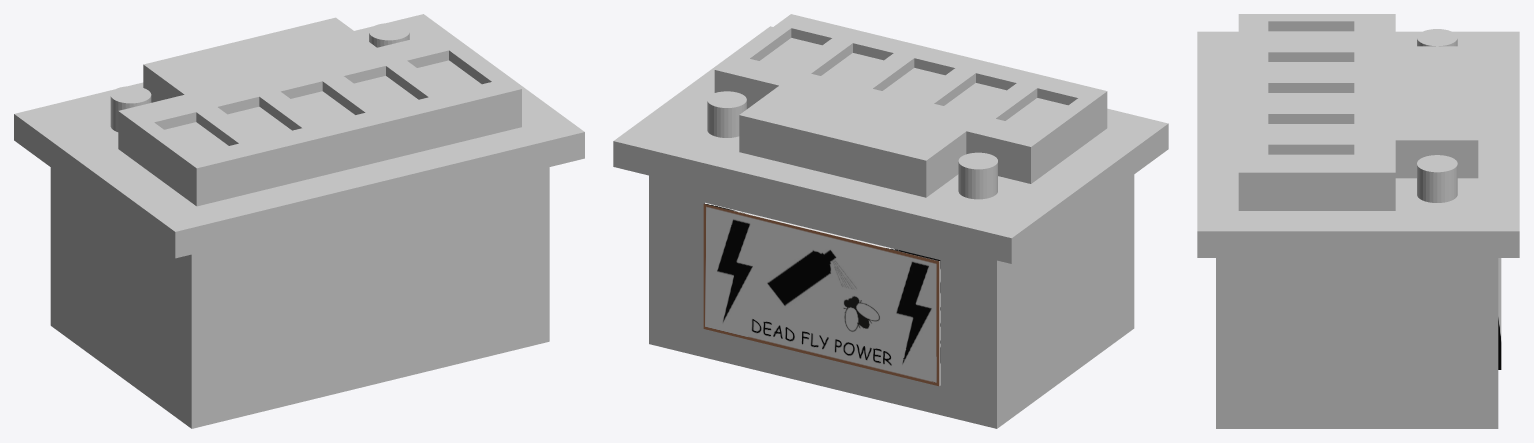
Rendered from CarBattery.fbx.
The picture shows the model from 3 angles, left to right: view 1: azimuth 30°, elevation 25°; view 2: azimuth 150°, elevation 25°; view 3: azimuth 270°, elevation 25°; orthographic projection. The views are drawn at different scales.
Parts seen in each view (by area): view 1: Cube.021, Cube.020, Cylinder.002, Cube.023, Cube.022, Cube.025, Cube.026, Cube.024; view 2: Cube.020, Cube.021, Cube.027, Cylinder.002, Cube.023, Cube.025, Cube.026, Cube.022, Cube.024; view 3: Cube.020, Cube.021, Cylinder.002, Cube.024, Cube.022, Cube.023, Cube.025, Cube.026, Cube.027.
Part boxes in pixels (x1,y1,x2,y2): Cube.021: (50,167,549,428); Cube.020: (14,14,584,258); Cylinder.002: (110,23,409,131); Cube.023: (354,76,418,107); Cube.022: (291,91,354,122); Cube.025: (228,106,291,138); Cube.026: (164,122,228,153); Cube.024: (417,60,481,91); Cube.020: (613,14,1168,263); Cube.021: (649,175,1134,428); Cube.027: (703,202,940,386); Cylinder.002: (707,91,997,199); Cube.023: (821,53,883,83); Cube.025: (944,83,1006,113); Cube.026: (1005,98,1067,128); Cube.022: (883,68,944,98); Cube.024: (760,38,821,68); Cube.020: (1197,14,1519,257); Cube.021: (1216,258,1498,428); Cylinder.002: (1417,29,1457,202); Cube.024: (1268,154,1354,165); Cube.022: (1268,93,1354,103); Cube.023: (1268,124,1354,134); Cube.025: (1268,62,1354,72); Cube.026: (1268,31,1354,41); Cube.027: (1498,258,1501,369).
Size of the model in its own units: 2317 by 1342 by 1580.
